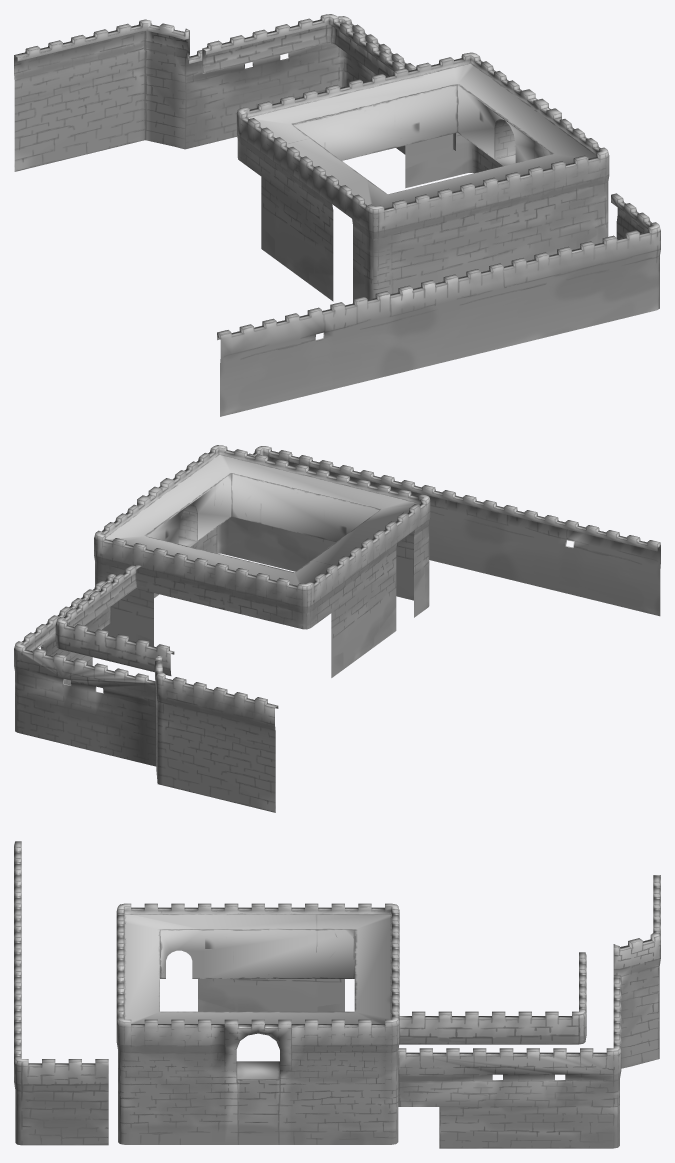
Rendered from castleWall.fbx.
3 renders of one model, top to bottom at view 1: azimuth 30°, elevation 25°; view 2: azimuth 150°, elevation 25°; view 3: azimuth 270°, elevation 25°, orthographic. The views are drawn at different scales.
Parts seen in each view (by area): view 1: castle.001; view 2: castle.001; view 3: castle.001.
Part boxes in pixels (bbox=[...]): castle.001: bbox=[14, 14, 660, 416]; castle.001: bbox=[14, 445, 660, 812]; castle.001: bbox=[14, 841, 660, 1148].
Bounding box in the file's own units: 14802 × 4248 × 18286.
